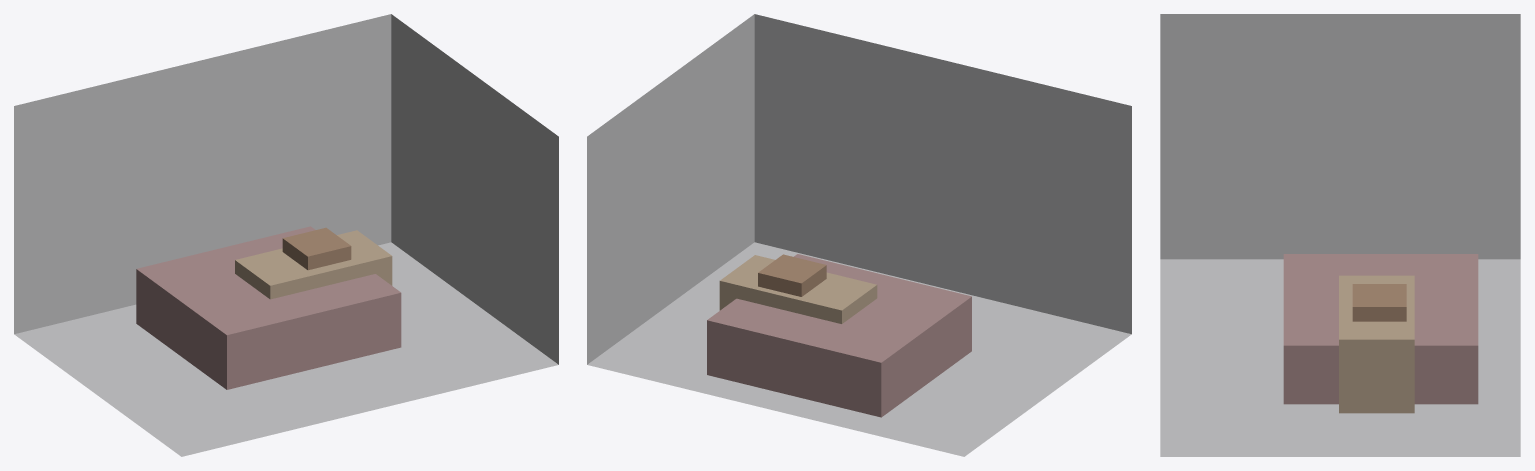
The model's file is optimised_layout.glb.
3 renders of one model, left to right at view 1: azimuth 30°, elevation 25°; view 2: azimuth 150°, elevation 25°; view 3: azimuth 270°, elevation 25°, orthographic. The views are drawn at different scales.
Visible parts, largest first — view 1: room, bed, desk, chair; view 2: room, bed, desk, chair; view 3: room, bed, desk, chair.
Boxes of the visible parts, left/top/right/bottom form: room: left=14, top=14, right=558, bottom=456; bed: left=136, top=226, right=401, bottom=389; desk: left=235, top=230, right=392, bottom=299; chair: left=282, top=227, right=351, bottom=270; room: left=587, top=14, right=1131, bottom=456; bed: left=707, top=254, right=971, bottom=417; desk: left=719, top=255, right=877, bottom=323; chair: left=758, top=254, right=826, bottom=296; room: left=1160, top=14, right=1520, bottom=456; bed: left=1283, top=254, right=1478, bottom=404; desk: left=1339, top=275, right=1414, bottom=413; chair: left=1352, top=284, right=1406, bottom=321.
Bounding box in the file's own units: 4.32 × 2.5 × 3.33.
